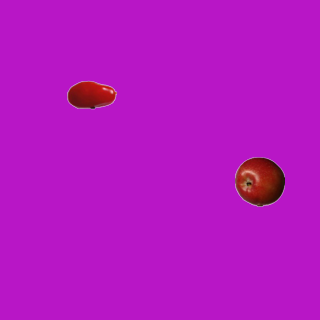Apple Braeburn: (234, 156, 284, 206)
Tomato 2: (66, 69, 116, 119)
